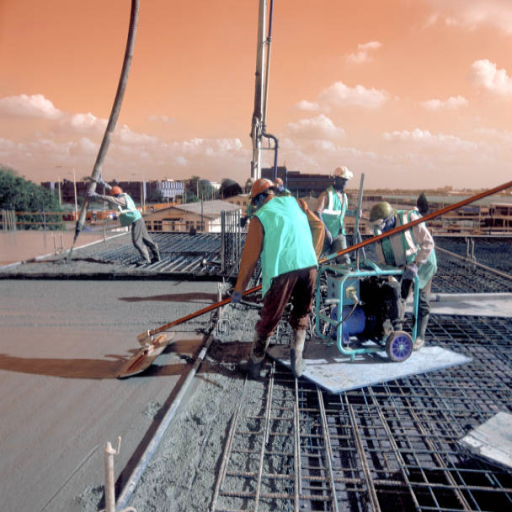portable_generator: (315, 259, 422, 361)
